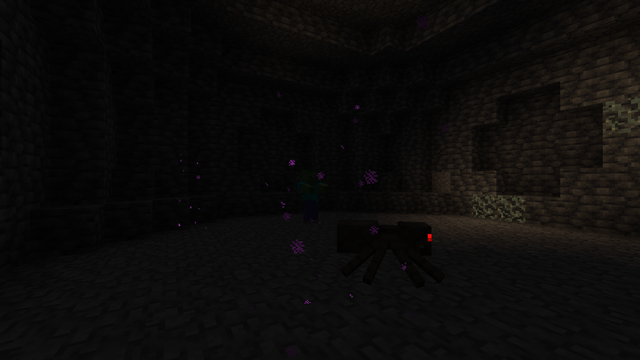araignees: (336, 212, 446, 288)
zombies: (299, 170, 320, 224)
